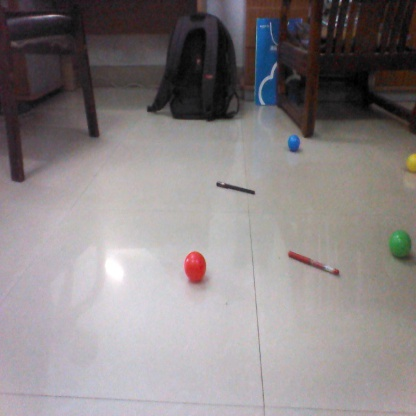ball: (181, 252, 209, 283), (387, 224, 413, 256), (286, 136, 304, 151), (402, 153, 416, 171)
pen: (286, 252, 343, 276), (215, 179, 258, 196)
